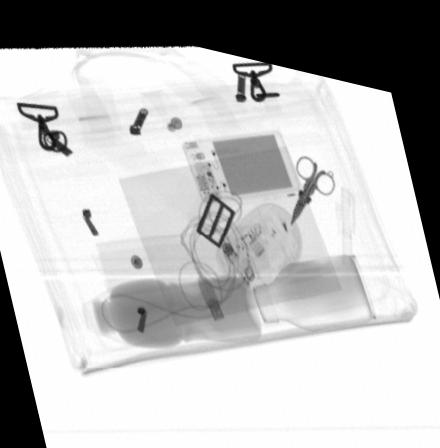Powerbank: (181, 115, 302, 193)
Scissors: (288, 140, 336, 214)
